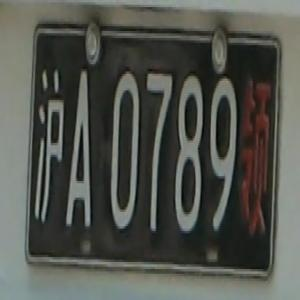Plate: (25, 19, 282, 266)
